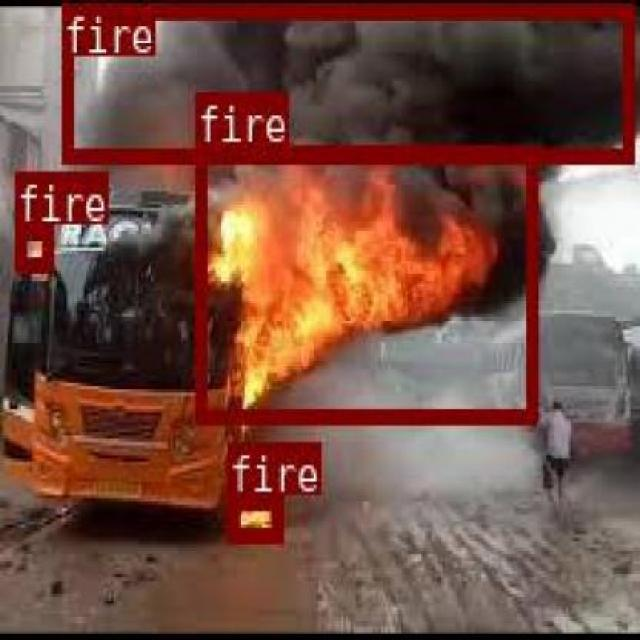Fire: (192, 142, 534, 421), (227, 492, 280, 540), (12, 222, 51, 270)
Smoke: (61, 2, 634, 161)
